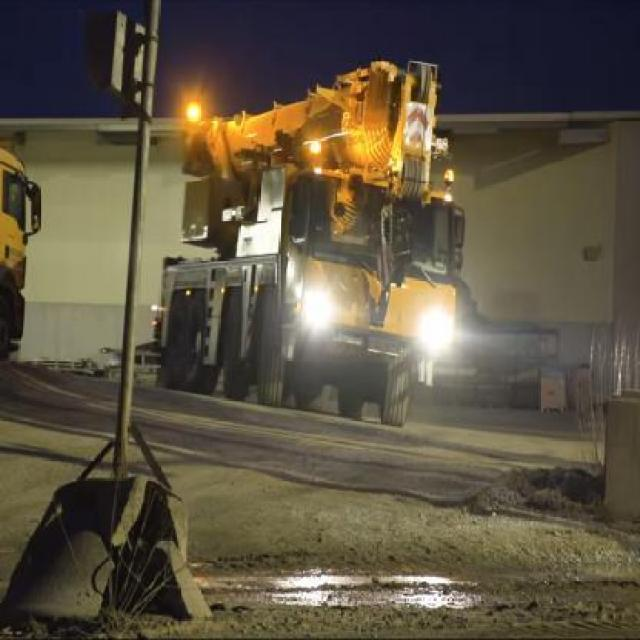Mobile Crane: (154, 59, 460, 426)
